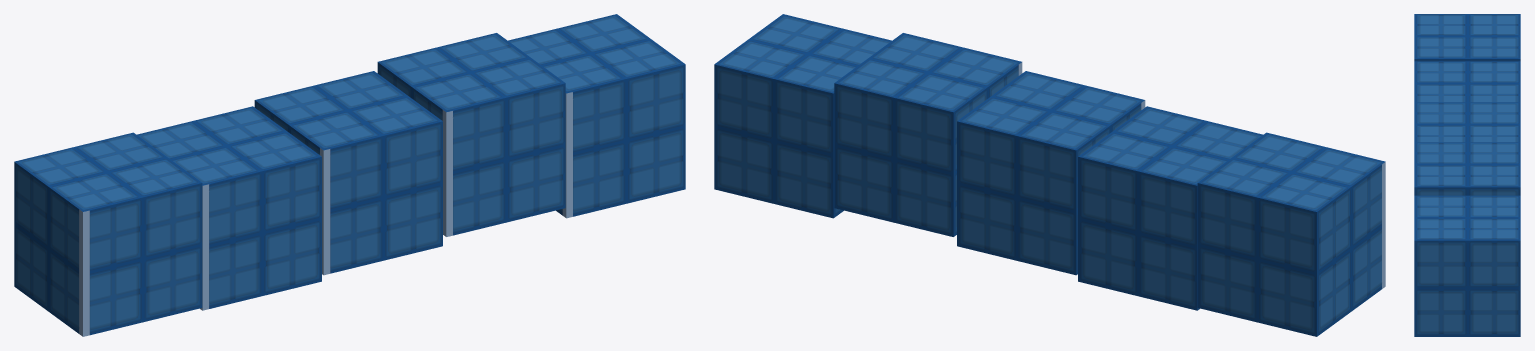
The picture shows the model from 3 angles, left to right: view 1: azimuth 30°, elevation 25°; view 2: azimuth 150°, elevation 25°; view 3: azimuth 270°, elevation 25°; orthographic projection. The views are drawn at different scales.
Parts seen in each view (by area): view 1: Cube.004, Cube.001, Cube.002, Cube.003, Cube; view 2: Cube.004, Cube.001, Cube.002, Cube.003, Cube; view 3: Cube, Cube.001, Cube.004, Cube.003, Cube.002.
Boxes of the visible parts, x1,y1,x2,y2 form: Cube.004: (14,132,202,336); Cube.001: (377,33,565,236); Cube.002: (254,71,442,275); Cube.003: (137,106,321,310); Cube: (508,14,685,218); Cube.004: (1197,132,1385,336); Cube.001: (834,33,1022,236); Cube.002: (957,71,1145,275); Cube.003: (1078,106,1262,310); Cube: (714,14,891,218); Cube: (1414,195,1520,336); Cube.001: (1414,142,1520,195); Cube.004: (1414,14,1520,61); Cube.003: (1414,61,1520,102); Cube.002: (1414,102,1520,142).
Size of the model in its own units: 10.1 by 2.22 by 2.
1 material, 1 textured.
